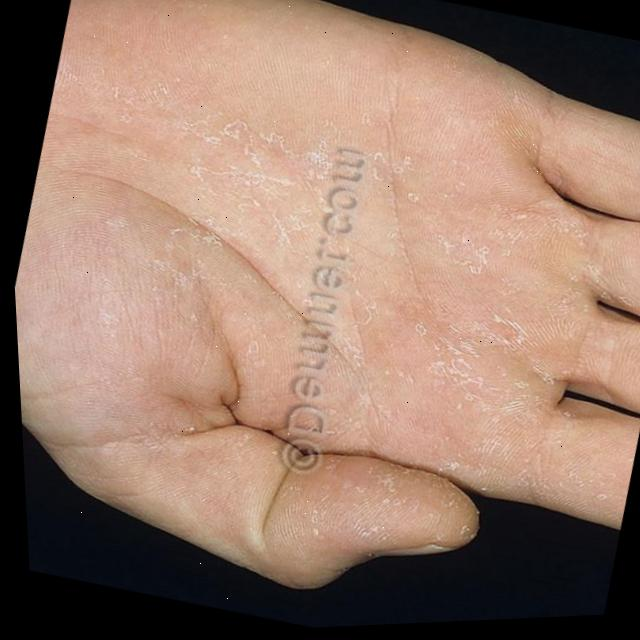Eczema: (50, 48, 622, 523)
